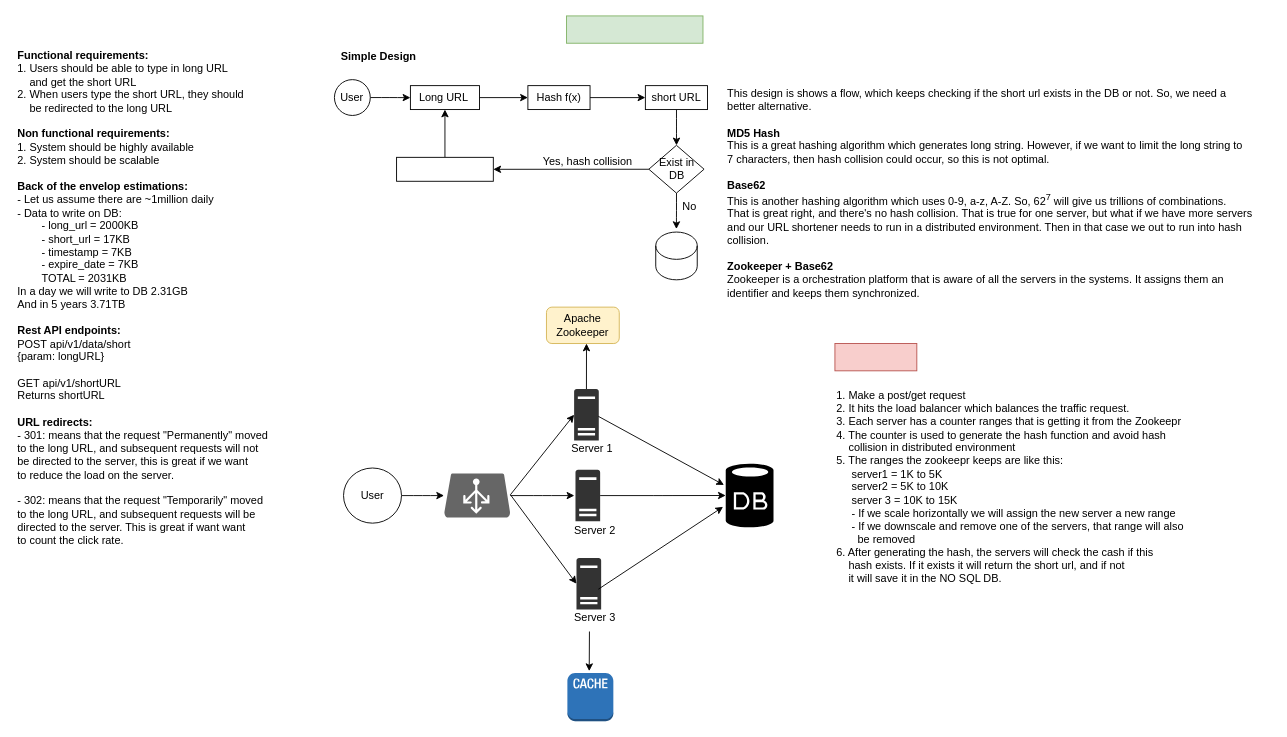
The diagram is 1287 pixels wide and 737 high, and some of its shapes have lost their labels. The shapes that lost their labels are listed below. From the top down, each one's centre as x and y in pixels, then its label:
At point 634,29: "URL Shortener Design".
At point 444,168: "Long URL + predefined String".
At point 676,255: "DB".
At point 875,357: "Final Design".
